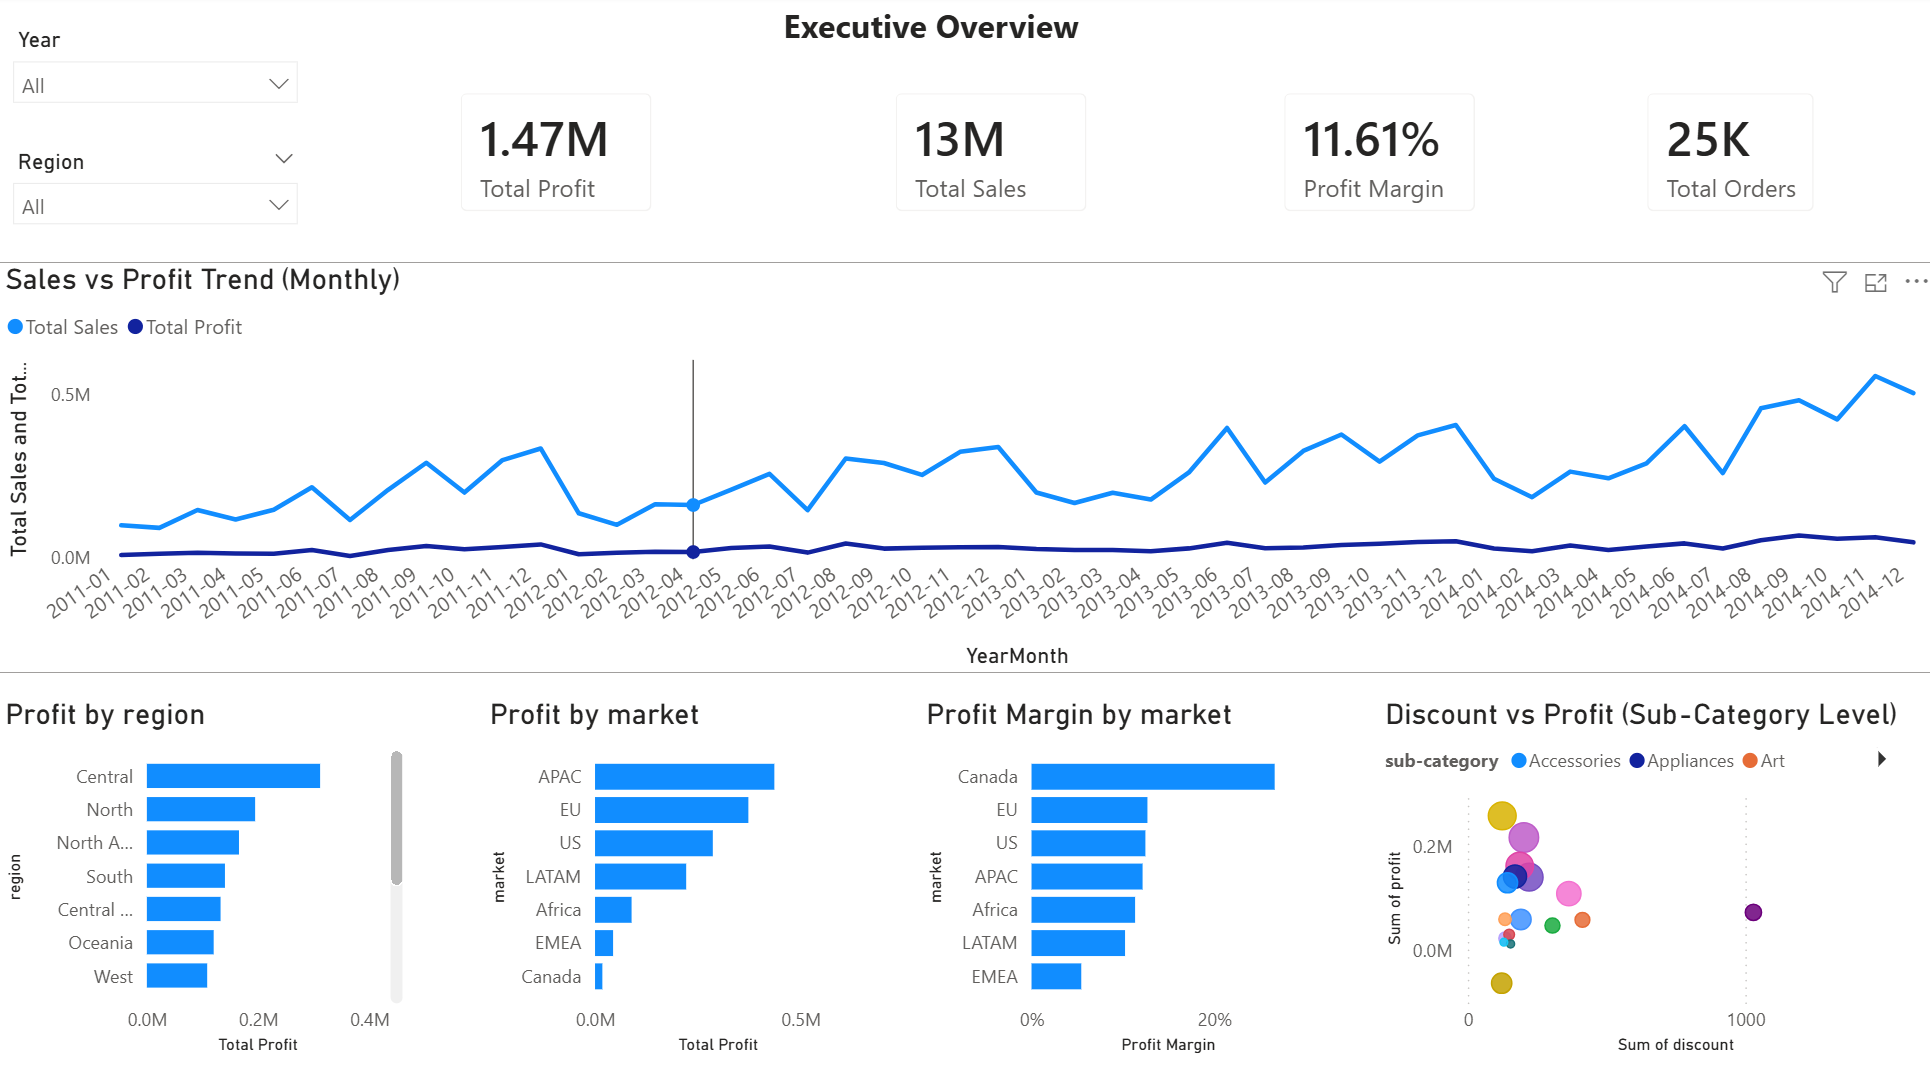

What the dashboard file says about the page in this screenshot:
{"tool":"powerbi","page":{"name":"Executive overview","canvas":[1280,720],"ordinal":0},"visuals":[{"type":"cardVisual","fields":{"Data":["global_superstore_cleaned.Total Profit"]},"box":[288,48,160,112],"z":0},{"type":"cardVisual","fields":{"Data":["global_superstore_cleaned.Total Sales"]},"box":[576,48,160,112],"z":1000},{"type":"cardVisual","fields":{"Data":["global_superstore_cleaned.Profit Margin"]},"box":[832,48,160,112],"z":2000},{"type":"cardVisual","fields":{"Data":["global_superstore_cleaned.Total Orders"]},"box":[1072,48,144,112],"z":3000},{"type":"lineChart","title":"Sales vs Profit Trend (Monthly)","fields":{"Y":["global_superstore_cleaned.Total Sales","global_superstore_cleaned.Total Profit"],"Category":["global_superstore_cleaned.YearMonth"]},"box":[0,176,1280,272],"z":4000},{"type":"clusteredBarChart","title":"Profit by region","fields":{"Category":["global_superstore_cleaned.region"],"Y":["global_superstore_cleaned.Total Profit"]},"box":[0,464,272,240],"z":5000},{"type":"clusteredBarChart","title":"Profit by market","fields":{"Category":["global_superstore_cleaned.market"],"Y":["global_superstore_cleaned.Total Profit"]},"box":[320,464,256,240],"z":6000},{"type":"clusteredBarChart","fields":{"Category":["global_superstore_cleaned.market"],"Y":["global_superstore_cleaned.Profit Margin"]},"box":[608,464,272,240],"z":7000},{"type":"scatterChart","title":"Discount vs Profit (Sub-Category Level)","fields":{"X":["Sum(global_superstore_cleaned.discount)"],"Y":["Sum(global_superstore_cleaned.profit)"],"Size":["Sum(global_superstore_cleaned.sales)"],"Series":["global_superstore_cleaned.sub-category"]},"box":[912,464,352,240],"z":8000},{"type":"slicer","fields":{"Values":["global_superstore_cleaned.year"]},"box":[0,16,208,64],"z":9000},{"type":"slicer","fields":{"Values":["global_superstore_cleaned.region"]},"box":[0,96,208,64],"z":10000},{"type":"textbox","box":[320,16,672,48],"z":10001}]}

Visuals, with their boxes in screenshot pixels (x1, y1, x2, y2), scaled from the page's 1280x720 canvas onto the 1930x1083 screenshot:
cardVisual - global_superstore_cleaned.Total Profit: x1=434, y1=72, x2=676, y2=241
cardVisual - global_superstore_cleaned.Total Sales: x1=868, y1=72, x2=1110, y2=241
cardVisual - global_superstore_cleaned.Profit Margin: x1=1254, y1=72, x2=1496, y2=241
cardVisual - global_superstore_cleaned.Total Orders: x1=1616, y1=72, x2=1834, y2=241
"Sales vs Profit Trend (Monthly)" lineChart: x1=0, y1=265, x2=1929, y2=674
"Profit by region" clusteredBarChart: x1=0, y1=698, x2=410, y2=1059
"Profit by market" clusteredBarChart: x1=482, y1=698, x2=868, y2=1059
clusteredBarChart - global_superstore_cleaned.market x global_superstore_cleaned.Profit Margin: x1=917, y1=698, x2=1327, y2=1059
"Discount vs Profit (Sub-Category Level)" scatterChart: x1=1375, y1=698, x2=1906, y2=1059
slicer - global_superstore_cleaned.year: x1=0, y1=24, x2=314, y2=120
slicer - global_superstore_cleaned.region: x1=0, y1=144, x2=314, y2=241
textbox: x1=482, y1=24, x2=1496, y2=96
